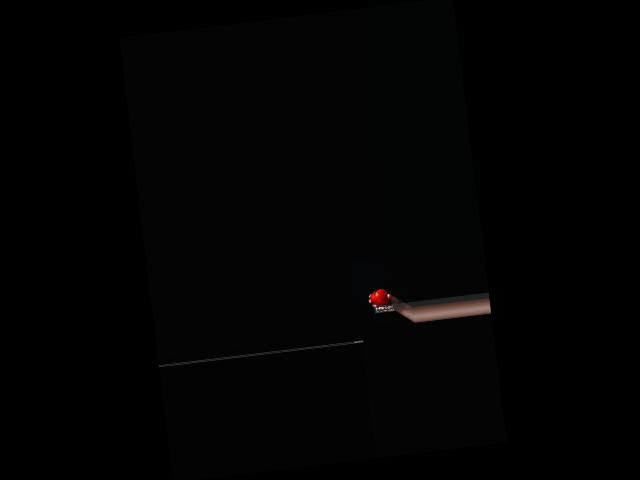tomato: (369, 287, 389, 307)
